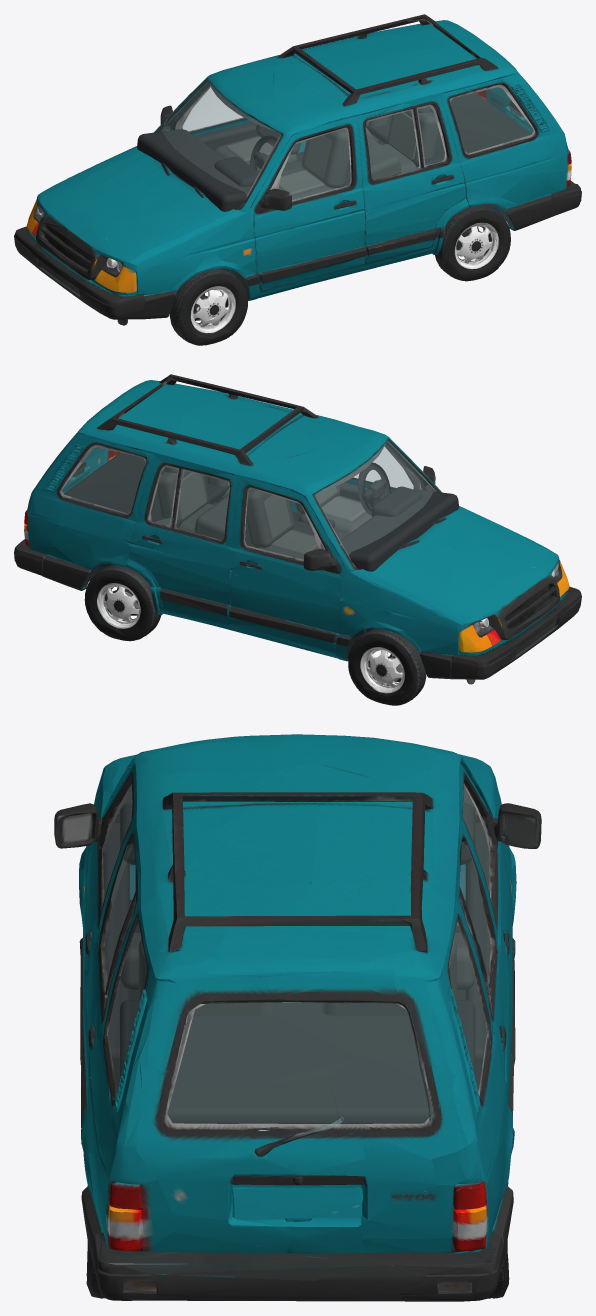
File: gallery-station-wagon.glb
The picture shows the model from 3 angles, top to bottom: view 1: azimuth 30°, elevation 25°; view 2: azimuth 150°, elevation 25°; view 3: azimuth 270°, elevation 25°; orthographic projection. The views are drawn at different scales.
Parts seen in each view (by area): view 1: Painted exterior and window seals, Passenger cabin, Windshield, Front door glass left, Cargo quarter glass left, Rear door glass left, Front door glass right, Rear door quarter glass left; view 2: Painted exterior and window seals, Passenger cabin, Windshield, Front door glass right, Cargo quarter glass right, Rear door glass right, Rear door quarter glass right, Front door glass left; view 3: Painted exterior and window seals, Passenger cabin, Liftgate glass, Cargo quarter glass right, Cargo quarter glass left, Rear door glass left, Rear door glass right, Front door glass left, Front door glass right.
Part boxes in pixels (bbox=[...]): Painted exterior and window seals: bbox=[14, 14, 581, 345]; Passenger cabin: bbox=[137, 92, 531, 211]; Windshield: bbox=[161, 82, 279, 193]; Front door glass left: bbox=[279, 129, 350, 199]; Cargo quarter glass left: bbox=[451, 87, 533, 153]; Rear door glass left: bbox=[365, 110, 418, 179]; Front door glass right: bbox=[183, 87, 242, 130]; Rear door quarter glass left: bbox=[418, 107, 444, 164]; Painted exterior and window seals: bbox=[14, 374, 581, 705]; Passenger cabin: bbox=[64, 452, 458, 571]; Windshield: bbox=[315, 442, 434, 554]; Front door glass right: bbox=[245, 488, 316, 559]; Cargo quarter glass right: bbox=[62, 447, 144, 513]; Rear door glass right: bbox=[176, 471, 230, 539]; Rear door quarter glass right: bbox=[151, 467, 177, 525]; Front door glass left: bbox=[354, 447, 413, 488]; Painted exterior and window seals: bbox=[54, 734, 541, 1301]; Passenger cabin: bbox=[103, 788, 491, 1123]; Liftgate glass: bbox=[167, 1002, 433, 1132]; Cargo quarter glass right: bbox=[448, 925, 486, 1090]; Cargo quarter glass left: bbox=[108, 924, 146, 1089]; Rear door glass left: bbox=[103, 844, 135, 988]; Rear door glass right: bbox=[460, 844, 491, 979]; Front door glass left: bbox=[103, 786, 132, 897]; Front door glass right: bbox=[463, 786, 489, 893].
Bounding box in the file's own units: 1.9 × 0.7547 × 0.8362.
Materials: 8 (1 with a texture image).
